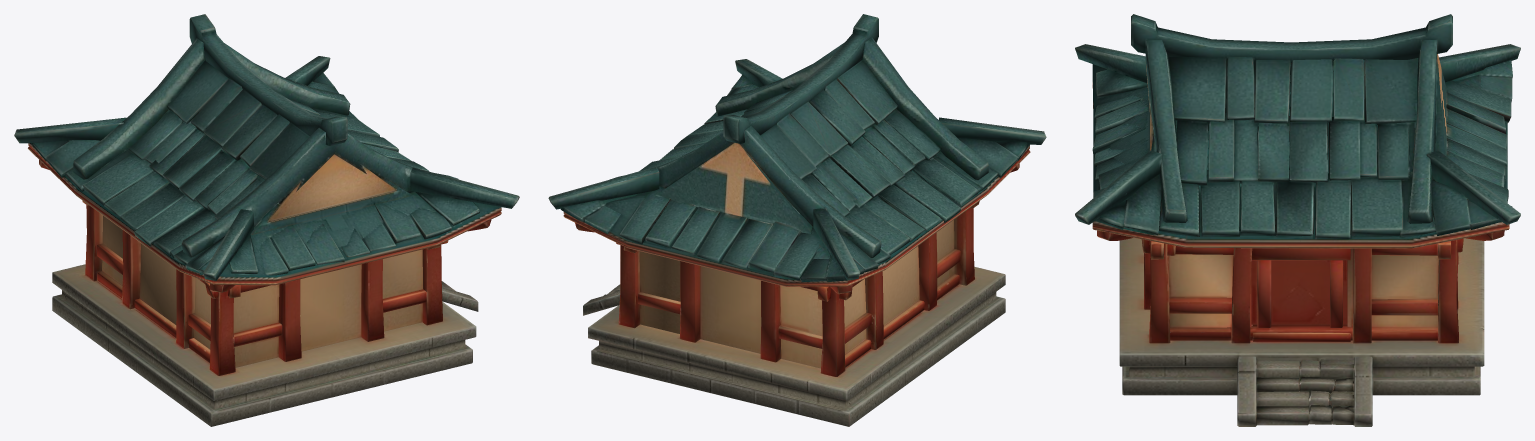
Rendered from tripo_convert_43a86ce9-9779-41d7-9efb-b142d59a1cd7.fbx.
The picture shows the model from 3 angles, left to right: view 1: azimuth 30°, elevation 25°; view 2: azimuth 150°, elevation 25°; view 3: azimuth 270°, elevation 25°; orthographic projection. The views are drawn at different scales.
Parts seen in each view (by area): view 1: tripo_node_43a86ce9; view 2: tripo_node_43a86ce9; view 3: tripo_node_43a86ce9.
Boxes of the visible parts, box(x1,y1,x2,y2) form: tripo_node_43a86ce9: box(14, 14, 519, 426); tripo_node_43a86ce9: box(548, 14, 1046, 426); tripo_node_43a86ce9: box(1075, 14, 1520, 426).
Bounding box in the file's own units: 0.998 × 0.7598 × 0.998.
Materials: 1 (1 with a texture image).
